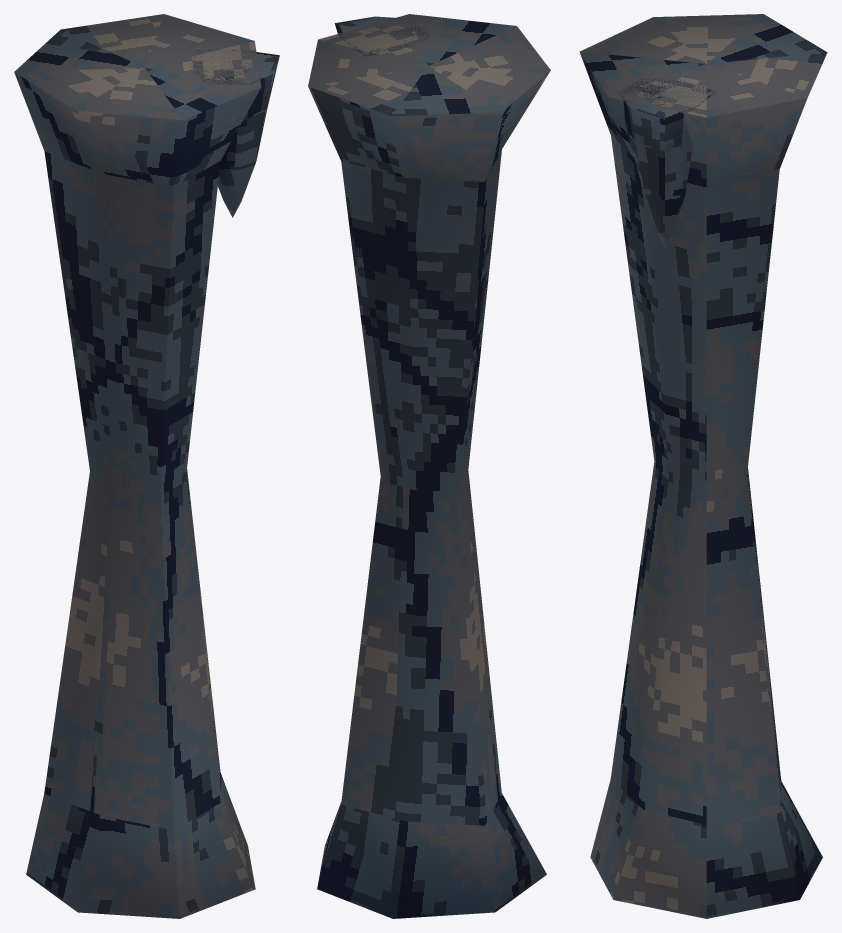
Rendered from cave.spike__column.glb.
The picture shows the model from 3 angles, left to right: view 1: azimuth 30°, elevation 25°; view 2: azimuth 150°, elevation 25°; view 3: azimuth 270°, elevation 25°; orthographic projection.
Visible parts, largest first — view 1: kit_dripstone; view 2: kit_dripstone; view 3: kit_dripstone.
Boxes of the visible parts, left/top/right/bottom form: kit_dripstone: left=14, top=14, right=279, bottom=918; kit_dripstone: left=308, top=14, right=550, bottom=918; kit_dripstone: left=579, top=14, right=827, bottom=918.
Size of the model in its own units: 1.41 by 5 by 1.4.
Materials: 1 (1 with a texture image).
